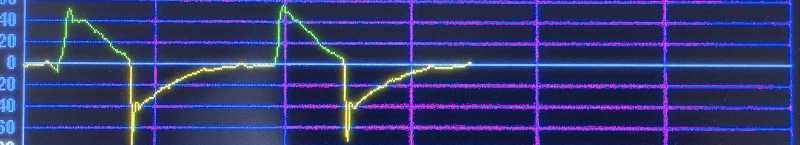normal_flow: (22, 0, 474, 145)
